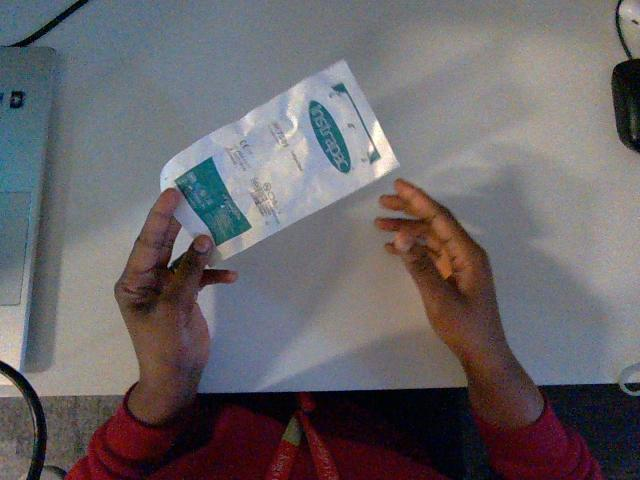gallipot: (161, 61, 397, 262)
